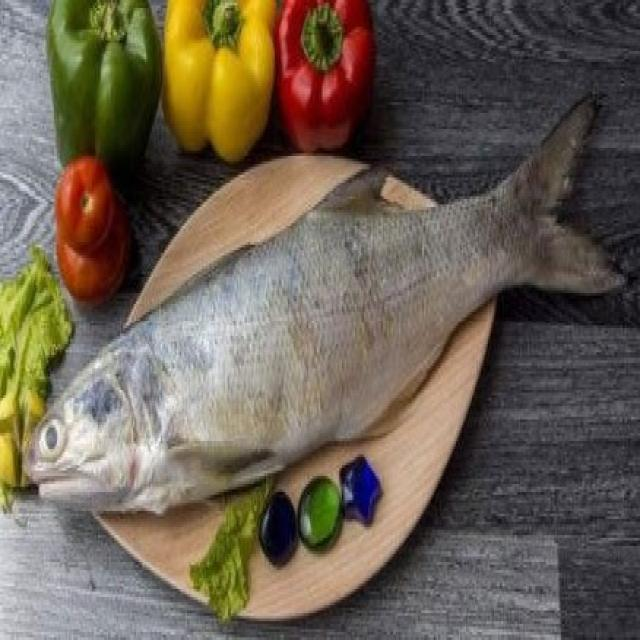Fourfinger-Threadfin: (12, 86, 640, 496)
